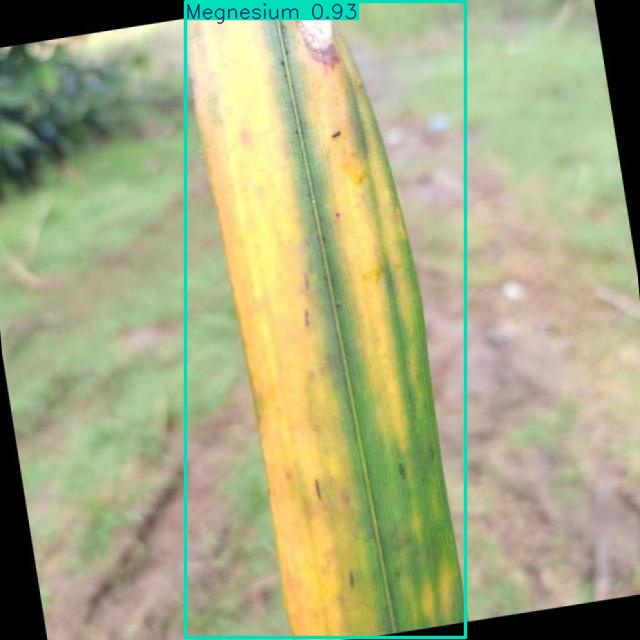Megnesium: (186, 1, 466, 637)
